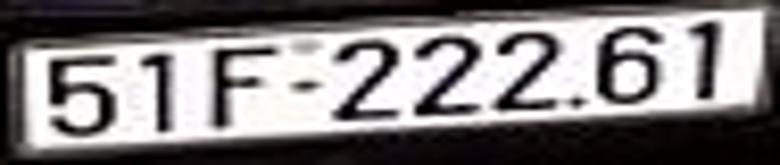-: (288, 80, 320, 94)
.: (569, 99, 585, 106)
1: (686, 19, 718, 102), (142, 52, 172, 132)
2: (411, 36, 480, 117), (334, 39, 397, 118), (496, 32, 558, 110)
5: (49, 56, 117, 134)
6: (598, 24, 659, 103)
F: (211, 49, 274, 127)
